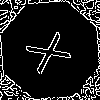X: (25, 25, 81, 76)
